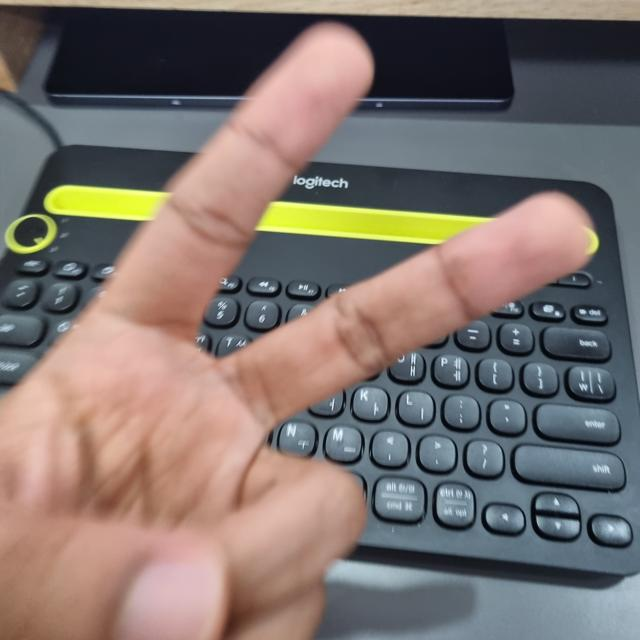Scissors: (0, 25, 593, 640)
